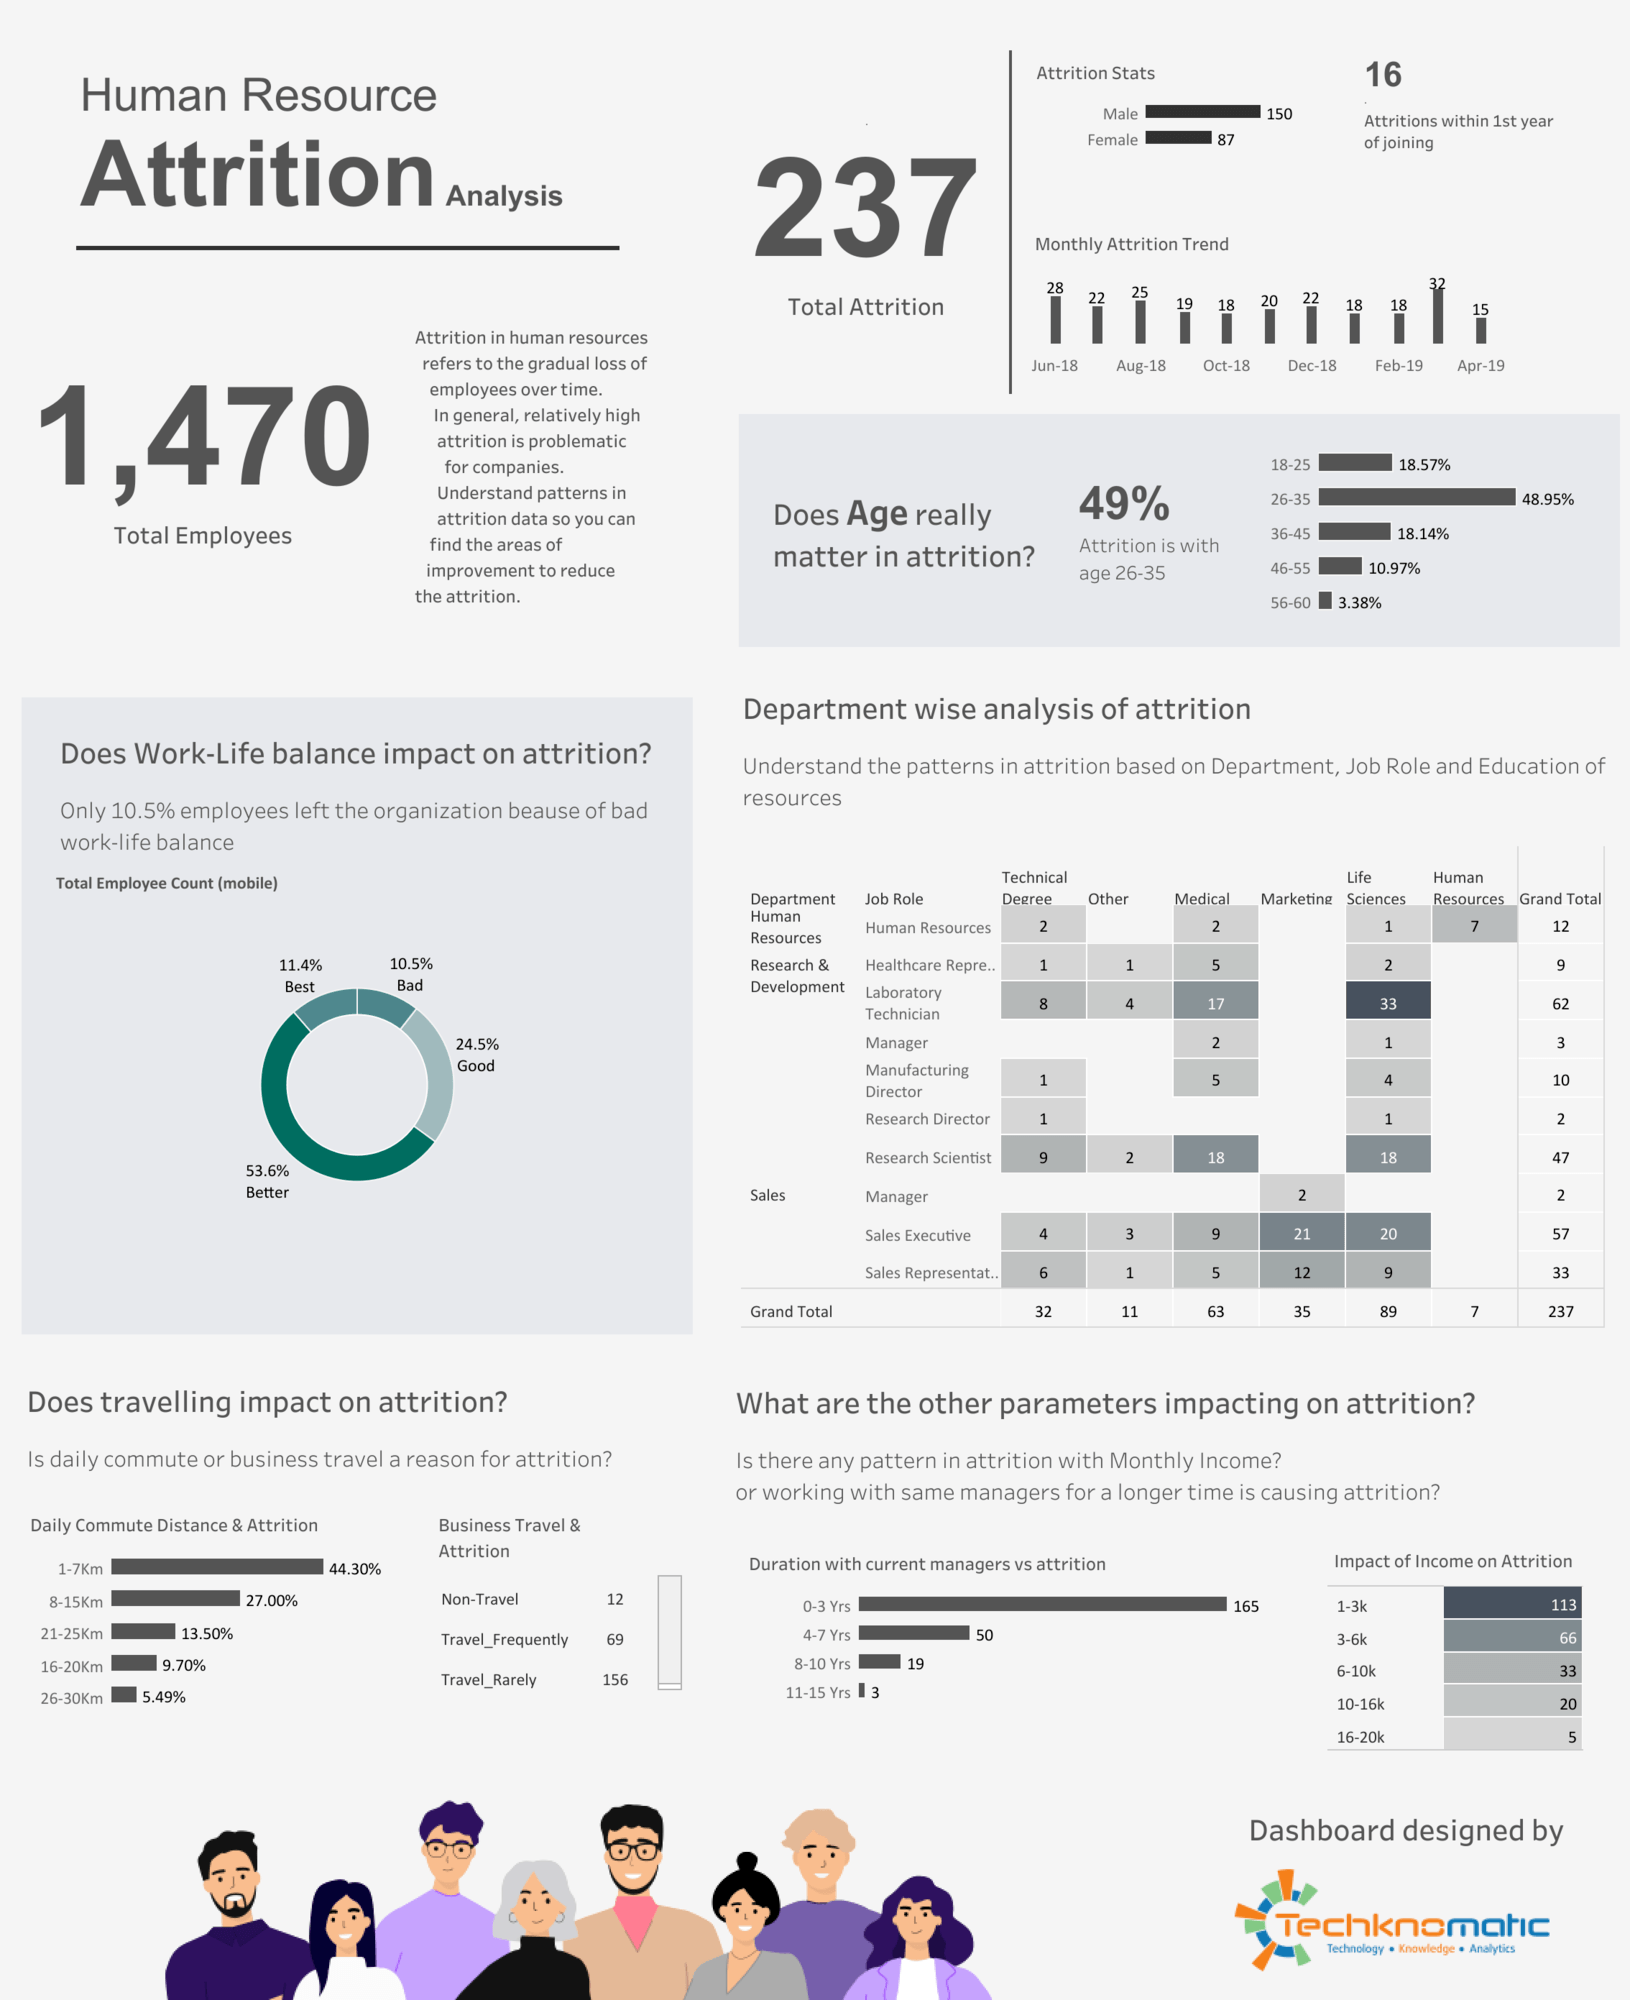

Layout of this report page (visuals, bound fields, positions):
{"tool":"powerbi","page":{"name":"attrition","canvas":[1070,590],"ordinal":1},"visuals":[{"type":"shape","box":[0,0,1070,590],"z":0},{"type":"shape","box":[138.8,3.8,920,573.8],"z":1000},{"type":"shape","box":[476.2,150,278.8,181.2],"z":2000},{"type":"shape","box":[147.5,150,320,106.2],"z":3000},{"type":"shape","box":[147.5,265,320,302.5],"z":4000},{"type":"shape","box":[478.8,337.5,573.8,230],"z":5000},{"type":"textbox","title":"  HR  Analytics","box":[137.5,3.8,371.2,47.5],"z":6000},{"type":"image","box":[11.2,10,117.5,70],"z":7000},{"type":"shape","box":[141.2,45,917.5,12.5],"z":8000},{"type":"shape","box":[835,61.2,201.2,85],"z":9000},{"type":"shape","box":[376.2,60,201.2,85],"z":10000},{"type":"shape","box":[766.2,150,288.8,181.2],"z":11000},{"type":"shape","box":[153.8,61.2,201.2,81.2],"z":12000},{"type":"shape","box":[613.8,61.2,201.2,85],"z":13000},{"type":"cardVisual","fields":{"Data":["_measures table.Attrition Rate"]},"box":[366.2,80,142.5,63.8],"z":14000},{"type":"cardVisual","fields":{"Data":["_measures table.overtime rate"]},"box":[835,76.2,133.8,66.2],"z":15000},{"type":"cardVisual","fields":{"Data":["_measures table.Distance from Home"]},"box":[613.8,75,122.5,73.8],"z":16000},{"type":"cardVisual","fields":{"Data":["_measures table.Total_Employees"]},"box":[147.5,77.5,133.8,62.5],"z":17000},{"type":"donutChart","title":" OverTime","fields":{"Category":["Fact_employee.Overtime Rating"],"Y":["_measures table.Attrition Rate"]},"box":[153.8,150,303.8,106.2],"z":18000},{"type":"scatterChart","title":"Attrition Rate & DistanceFromHome","fields":{"X":["_measures table.Attrition Rate"],"Y":["Fact_employee.DistanceFromHome"]},"box":[483.8,157.5,271.2,167.5],"z":19000},{"type":"pivotTable","fields":{"Rows":["dim_department.Department","dim_job role.JobRole"],"Values":["_measures table.Attrition Rate"]},"box":[157.5,266.2,310,311.2],"z":20000},{"type":"clusteredColumnChart","fields":{"Y":["_measures table.Attrition Rate"],"Category":["dim_employee.AgeGroup"]},"box":[767.5,157.5,283.8,176.2],"z":21000},{"type":"barChart","title":"Promotion","fields":{"Category":["Fact_employee.Promotion Recency"],"Y":["_measures table.Total Employees"],"Series":["Fact_employee.Attrition"]},"box":[483.8,347.5,566.2,211.2],"z":22000},{"type":"slicer","fields":{"Values":["dim_employee.Gender"]},"box":[0,337.5,143.8,66.2],"z":23000},{"type":"slicer","fields":{"Values":["dim_department.Department"]},"box":[0,190,143.8,56.2],"z":24000},{"type":"slicer","fields":{"Values":["dim_Busines travel.BusinessTravel"]},"box":[0,490,143.8,68.8],"z":25000},{"type":"slicer","fields":{"Values":["Fact_employee.Attrition"]},"box":[0,260,143.8,68.8],"z":26000},{"type":"slicer","fields":{"Values":["Fact_employee.OverTime"]},"box":[0,416.2,143.8,66.2],"z":27000},{"type":"image","box":[25,108.8,85,55],"z":28000},{"type":"shape","box":[508.8,10,111.2,35],"z":29000},{"type":"shape","box":[620,10,95,35],"z":30000},{"type":"shape","box":[722.5,10,76.2,35],"z":31000},{"type":"shape","box":[798.8,10,126.2,35],"z":32000},{"type":"shape","box":[925,10,111.2,32.5],"z":33000},{"type":"image","box":[251.2,90,86.2,50],"z":33001},{"type":"shape","box":[160,60,177.5,33.8],"z":33002},{"type":"shape","box":[387.5,57.5,177.5,33.8],"z":33003},{"type":"shape","box":[626.2,61.2,177.5,33.8],"z":33004},{"type":"image","box":[722.5,83.8,83.8,58.8],"z":33005},{"type":"shape","box":[847.5,56.2,177.5,37.5],"z":33006},{"type":"image","box":[941.2,91.2,83.8,48.8],"z":33007},{"type":"image","box":[491.2,86.2,86.2,50],"z":33008}]}

Visuals, with their boxes on the page's 1070x590 design canvas (x1, y1, x2, y2). These are canvas units, not pixel positions in the 1630x2000 screenshot, which may show the page scaled, cropped or inside an application window:
shape: detection(0, 0, 1070, 590)
shape: detection(139, 4, 1059, 578)
shape: detection(476, 150, 755, 331)
shape: detection(148, 150, 468, 256)
shape: detection(148, 265, 468, 568)
shape: detection(479, 338, 1053, 568)
"  HR  Analytics" textbox: detection(138, 4, 509, 51)
image: detection(11, 10, 129, 80)
shape: detection(141, 45, 1059, 58)
shape: detection(835, 61, 1036, 146)
shape: detection(376, 60, 577, 145)
shape: detection(766, 150, 1055, 331)
shape: detection(154, 61, 355, 142)
shape: detection(614, 61, 815, 146)
cardVisual - _measures table.Attrition Rate: detection(366, 80, 509, 144)
cardVisual - _measures table.overtime rate: detection(835, 76, 969, 142)
cardVisual - _measures table.Distance from Home: detection(614, 75, 736, 149)
cardVisual - _measures table.Total_Employees: detection(148, 78, 281, 140)
" OverTime" donutChart: detection(154, 150, 458, 256)
"Attrition Rate & DistanceFromHome" scatterChart: detection(484, 158, 755, 325)
pivotTable - dim_department.Department x dim_job role.JobRole: detection(158, 266, 468, 577)
clusteredColumnChart - _measures table.Attrition Rate x dim_employee.AgeGroup: detection(768, 158, 1051, 334)
"Promotion" barChart: detection(484, 348, 1050, 559)
slicer - dim_employee.Gender: detection(0, 338, 144, 404)
slicer - dim_department.Department: detection(0, 190, 144, 246)
slicer - dim_Busines travel.BusinessTravel: detection(0, 490, 144, 559)
slicer - Fact_employee.Attrition: detection(0, 260, 144, 329)
slicer - Fact_employee.OverTime: detection(0, 416, 144, 482)
image: detection(25, 109, 110, 164)
shape: detection(509, 10, 620, 45)
shape: detection(620, 10, 715, 45)
shape: detection(722, 10, 799, 45)
shape: detection(799, 10, 925, 45)
shape: detection(925, 10, 1036, 42)
image: detection(251, 90, 337, 140)
shape: detection(160, 60, 338, 94)
shape: detection(388, 58, 565, 91)
shape: detection(626, 61, 804, 95)
image: detection(722, 84, 806, 143)
shape: detection(848, 56, 1025, 94)
image: detection(941, 91, 1025, 140)
image: detection(491, 86, 577, 136)
